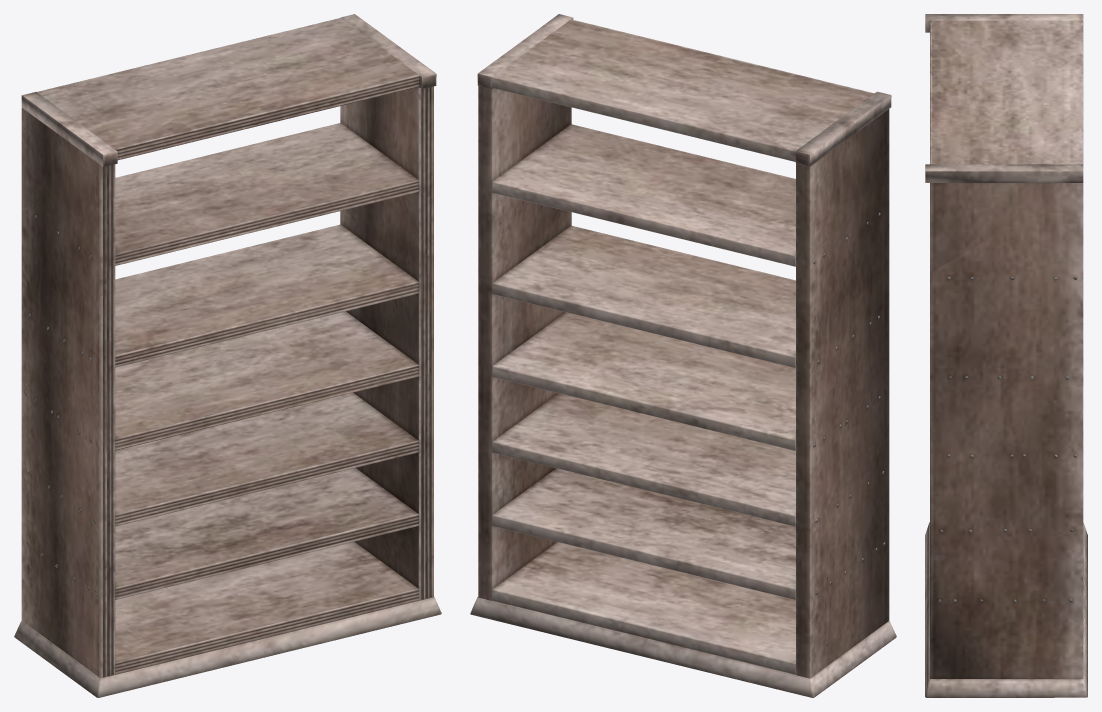
The model's file is bookcase-wide.glb.
The picture shows the model from 3 angles, left to right: view 1: azimuth 30°, elevation 25°; view 2: azimuth 150°, elevation 25°; view 3: azimuth 270°, elevation 25°; orthographic projection. The views are drawn at different scales.
Visible parts, largest first — view 1: wooden_bookshelf_worn; view 2: wooden_bookshelf_worn; view 3: wooden_bookshelf_worn.
Boxes of the visible parts, bbox=[...] form: wooden_bookshelf_worn: bbox=[14, 14, 441, 697]; wooden_bookshelf_worn: bbox=[470, 14, 896, 697]; wooden_bookshelf_worn: bbox=[925, 14, 1087, 697].
Size of the model in its own units: 1.58 by 2.37 by 0.6686.
1 material, 1 textured.
